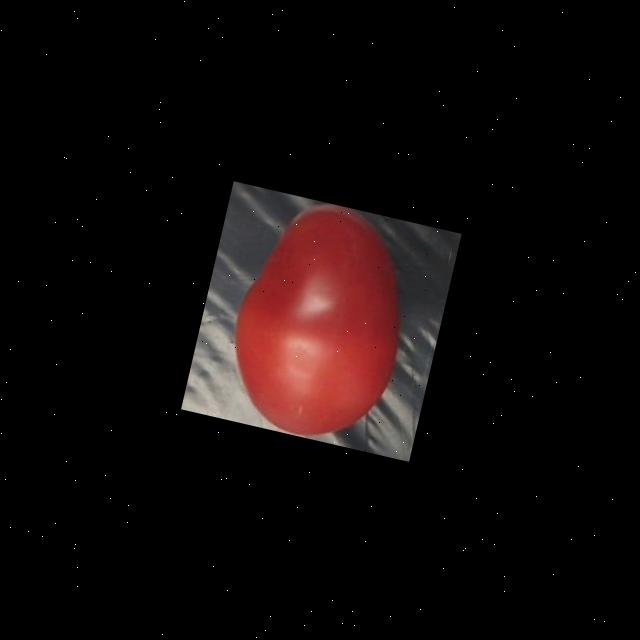tomato: (209, 186, 434, 454)
